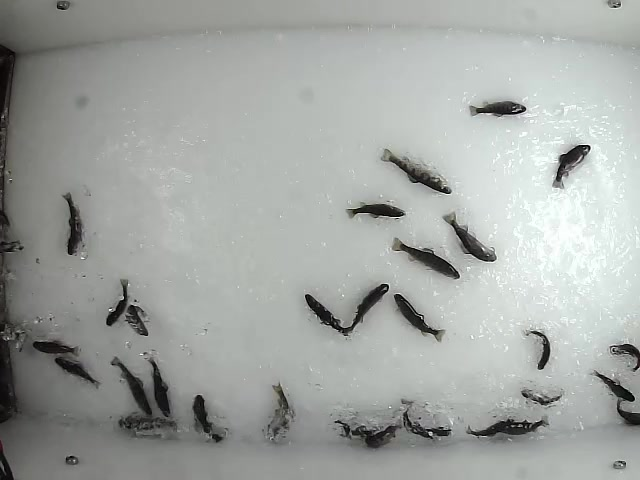fish: (379, 145, 454, 196), (392, 235, 462, 281), (105, 354, 154, 418), (441, 211, 497, 263), (344, 281, 390, 336), (304, 291, 352, 336), (547, 143, 592, 190), (142, 349, 172, 419), (586, 367, 638, 403), (265, 381, 295, 443), (51, 355, 102, 390), (192, 393, 226, 443), (60, 189, 84, 256), (103, 274, 131, 331), (116, 416, 182, 438), (404, 398, 436, 440), (524, 326, 552, 371), (342, 202, 408, 220), (464, 100, 529, 118), (31, 337, 83, 359), (501, 413, 550, 436), (331, 420, 388, 439), (405, 419, 455, 440), (520, 384, 564, 407), (365, 423, 402, 450), (464, 419, 514, 438), (123, 304, 149, 338)
